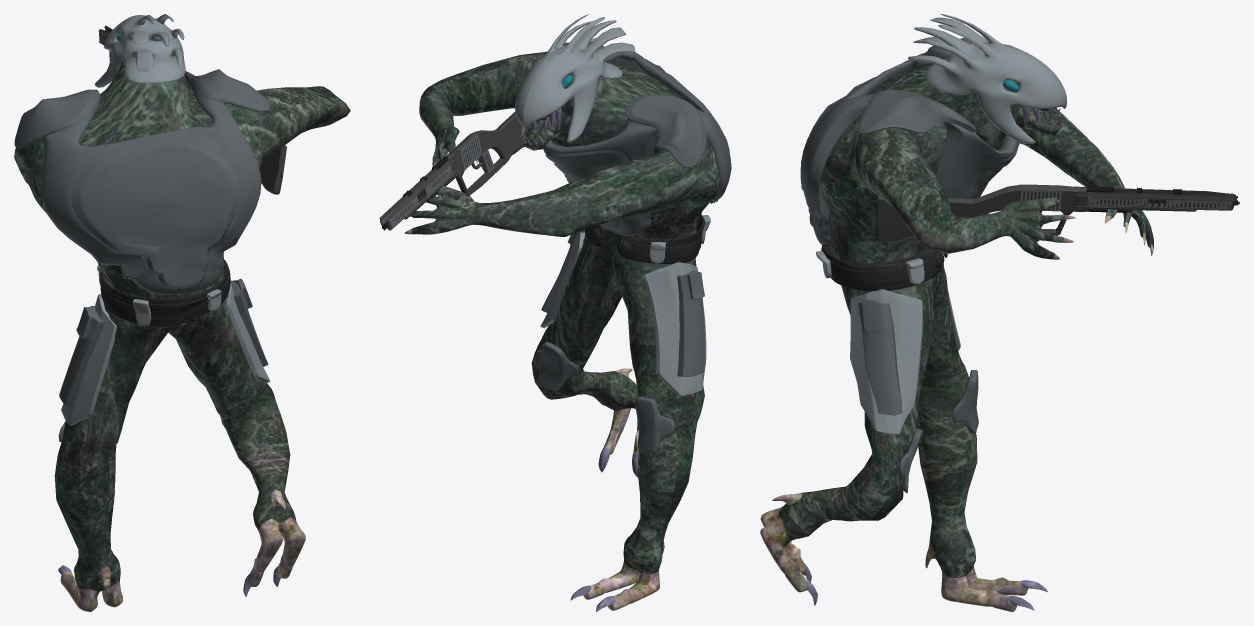
The model's file is AndarEscopeta.0004.obj.
3 renders of one model, left to right at view 1: azimuth 30°, elevation 25°; view 2: azimuth 150°, elevation 25°; view 3: azimuth 270°, elevation 25°, orthographic. The views are drawn at different scales.
Parts seen in each view (by area): view 1: polySurface104, escopeta:Cylinder001 polySurface104; view 2: polySurface104, escopeta:Cylinder001 polySurface104; view 3: polySurface104, escopeta:Cylinder001 polySurface104.
Boxes of the visible parts, x1,y1,x2,y2 form: polySurface104: (14, 14, 350, 611); escopeta:Cylinder001 polySurface104: (98, 25, 286, 194); polySurface104: (404, 14, 731, 611); escopeta:Cylinder001 polySurface104: (379, 111, 529, 230); polySurface104: (760, 14, 1153, 611); escopeta:Cylinder001 polySurface104: (875, 184, 1239, 242).
Bounding box in the file's own units: 1.4 × 2.52 × 1.81.
10 materials, 8 textured.
